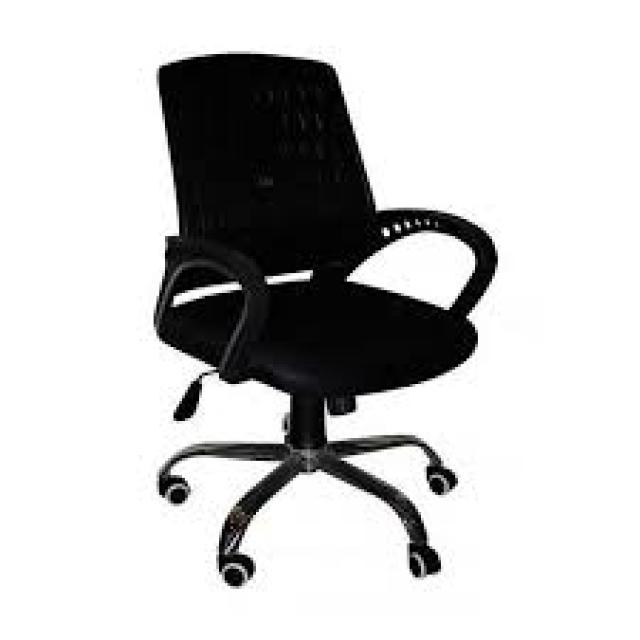chair: (59, 23, 512, 606)
